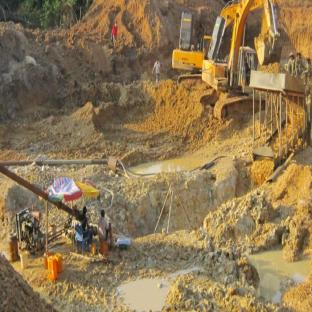ExcavationMachinery: (211, 2, 257, 120)
ProcessingEquipment: (246, 63, 308, 158)
